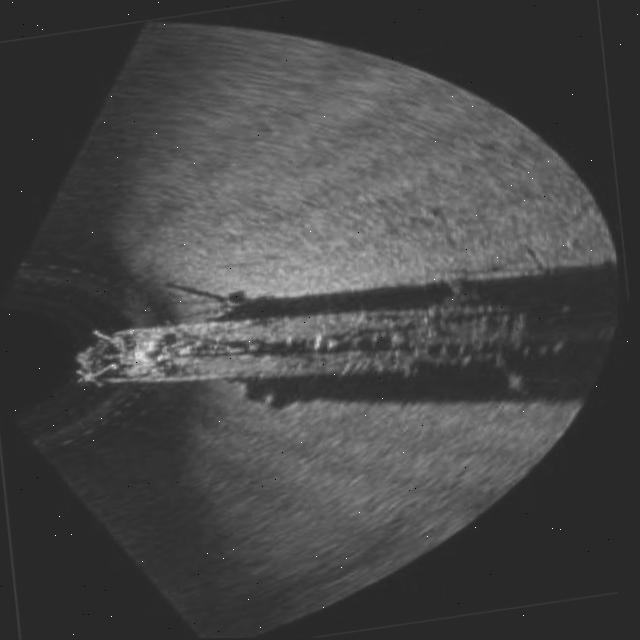shipwreck: (57, 243, 600, 438)
